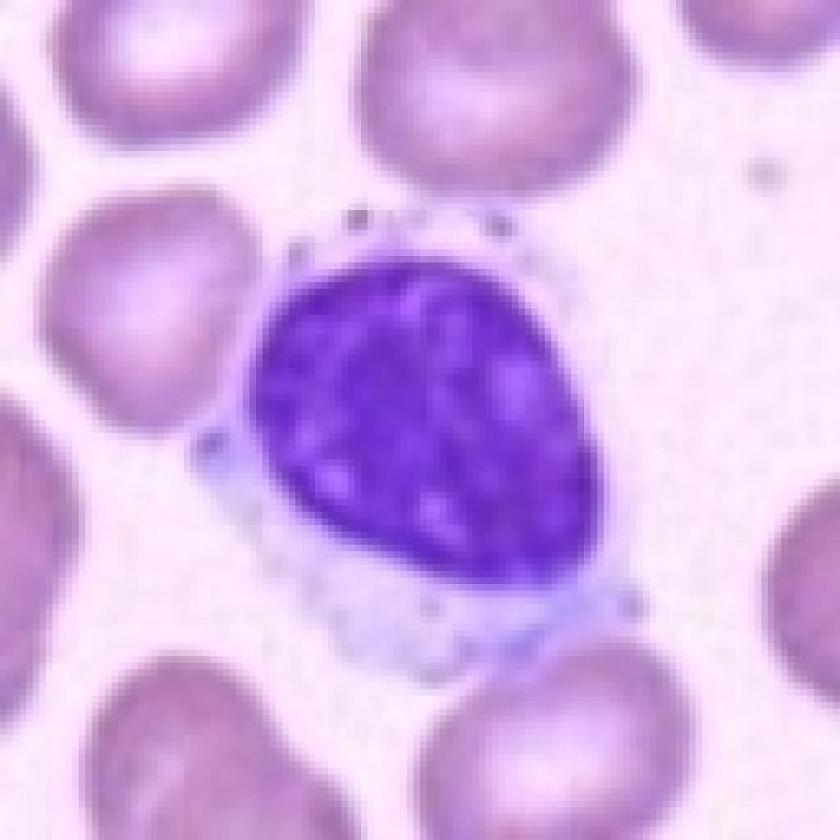lymphocyte: (183, 185, 668, 691)
